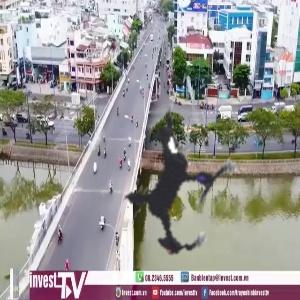drone: (68, 75, 293, 300)
